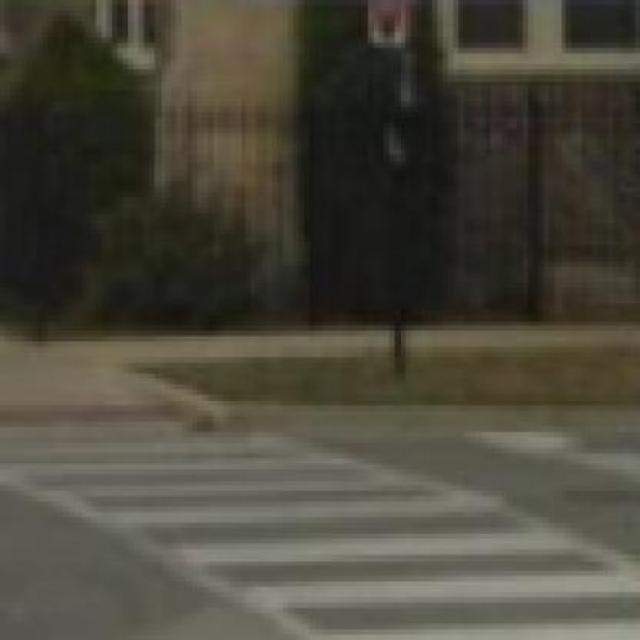crosswalk: (0, 432, 640, 638)
